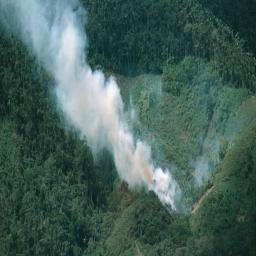Low smoke: (0, 0, 217, 219)
